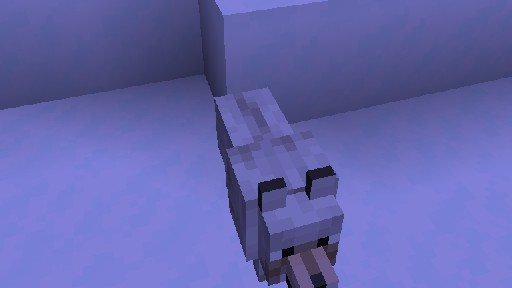wolf: (213, 86, 344, 288)
